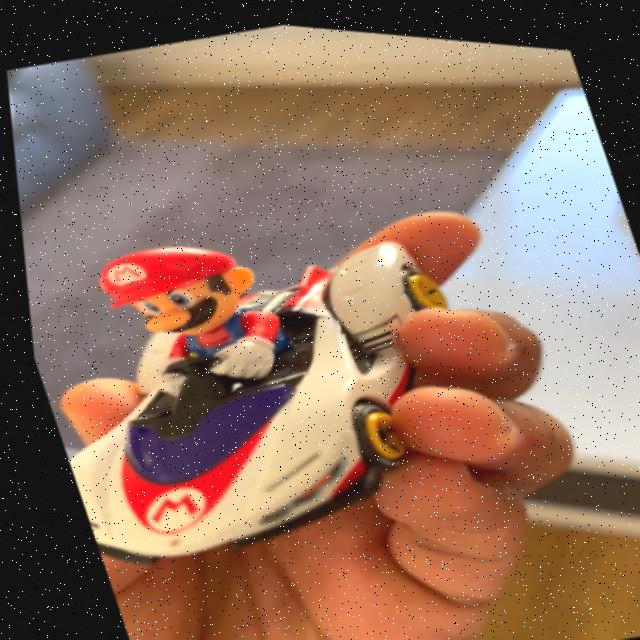mario: (11, 143, 535, 602)
